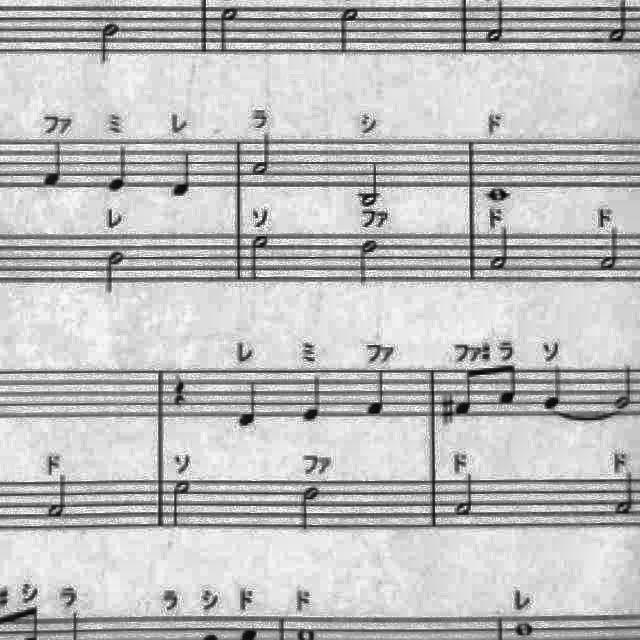Diez: (439, 390, 457, 424)
Eighth-note: (453, 365, 479, 419), (496, 362, 520, 410)
Full-note: (510, 616, 540, 640), (482, 182, 514, 204)
Half-note: (215, 2, 245, 58), (353, 156, 385, 208), (42, 472, 74, 524), (603, 0, 637, 48), (336, 3, 364, 59), (167, 474, 195, 530), (486, 224, 516, 276), (248, 229, 276, 283), (610, 469, 640, 518), (248, 130, 276, 182), (102, 248, 130, 300), (298, 482, 326, 534), (97, 17, 125, 68), (481, 0, 512, 46), (450, 472, 480, 518), (596, 226, 624, 274), (613, 359, 639, 409), (356, 234, 380, 286)
Quarter-note: (40, 136, 72, 192), (233, 376, 264, 432), (299, 370, 329, 426), (103, 142, 133, 196), (168, 147, 198, 201), (361, 365, 391, 419), (540, 361, 570, 411)
Quarter-rest: (168, 370, 192, 408)
